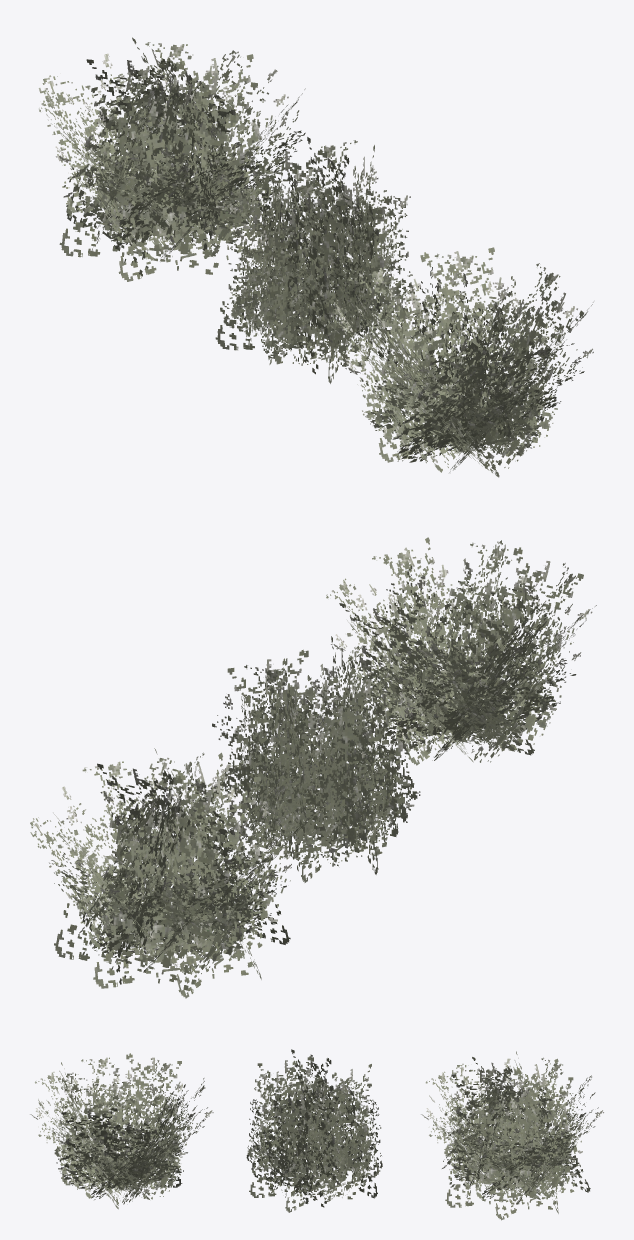
Rendered from bush.fbx.
3 views of the same model, one above another, from view 1: azimuth 30°, elevation 25°; view 2: azimuth 150°, elevation 25°; view 3: azimuth 270°, elevation 25° (orthographic). The views are drawn at different scales.
Parts seen in each view (by area): view 1: bush_3, bush, bush_2; view 2: bush_3, bush, bush_2; view 3: bush_3, bush, bush_2.
Boxes of the visible parts, box(x1,y1,x2,y2) form: bush_3: box(38, 37, 305, 281); bush: box(328, 247, 593, 477); bush_2: box(215, 137, 421, 383); bush_3: box(30, 748, 314, 998); bush: box(326, 537, 596, 765); bush_2: box(212, 636, 425, 882); bush_3: box(421, 1051, 603, 1220); bush: box(30, 1053, 213, 1209); bush_2: box(246, 1049, 382, 1212).
Size of the model in its own units: 316 by 201 by 890.
